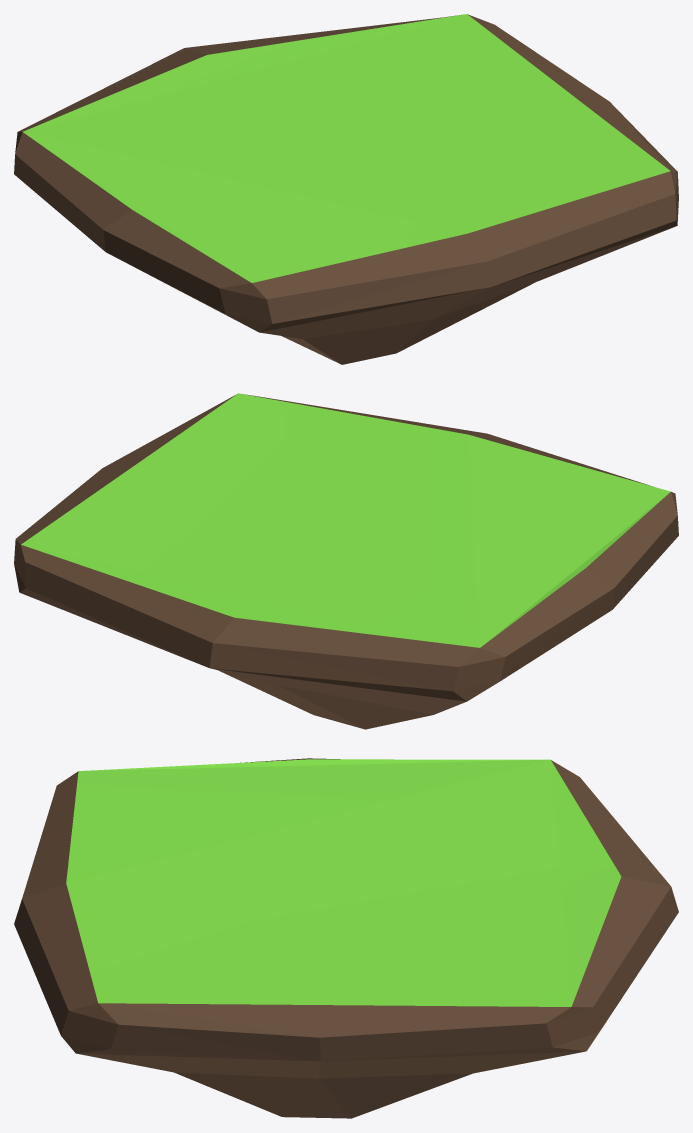
File: base-lend.fbx
3 views of the same model, one above another, from view 1: azimuth 30°, elevation 25°; view 2: azimuth 150°, elevation 25°; view 3: azimuth 270°, elevation 25° (orthographic). The views are drawn at different scales.
Visible parts, largest first — view 1: Tikei; view 2: Tikei; view 3: Tikei.
Part boxes in pixels (x1,y1,x2,y2): Tikei: (14,14,678,364); Tikei: (14,393,678,729); Tikei: (14,758,678,1118).
Bounding box in the file's own units: 8258 × 3035 × 8314.
